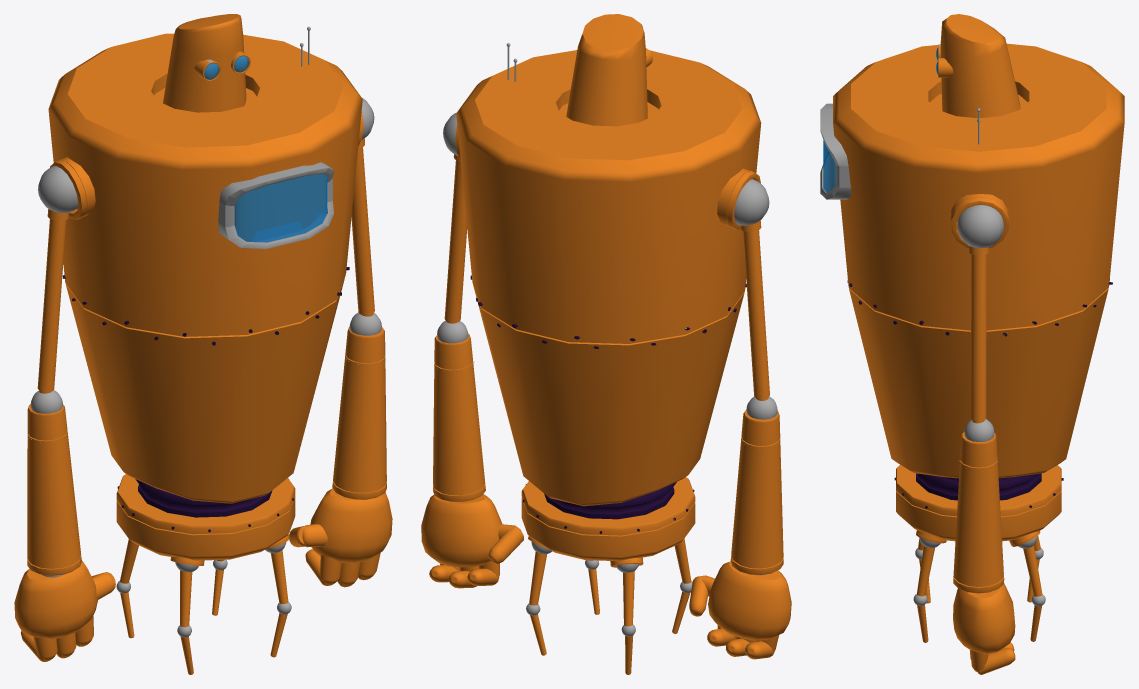
The model's file is Robot.fbx.
3 views of the same model, side by side, from view 1: azimuth 30°, elevation 25°; view 2: azimuth 150°, elevation 25°; view 3: azimuth 270°, elevation 25° (orthographic). The views are drawn at different scales.
Parts seen in each view (by area): view 1: group14_pasted__group10_pasted__pasted__group4_pasted__paste; view 2: group14_pasted__group10_pasted__pasted__group4_pasted__paste; view 3: group14_pasted__group10_pasted__pasted__group4_pasted__paste.
Part boxes in pixels (x1,y1,x2,y2): group14_pasted__group10_pasted__pasted__group4_pasted__paste: [14, 14, 392, 674]; group14_pasted__group10_pasted__pasted__group4_pasted__paste: [421, 14, 791, 674]; group14_pasted__group10_pasted__pasted__group4_pasted__paste: [820, 14, 1124, 674].
Bounding box in the file's own units: 7.96 × 12.92 × 5.91.
